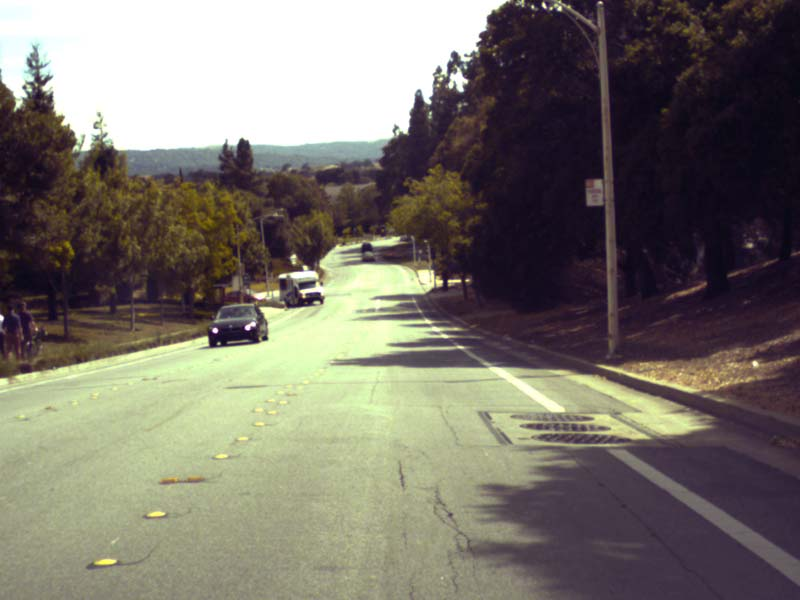Yellow: (379, 226, 385, 237)
